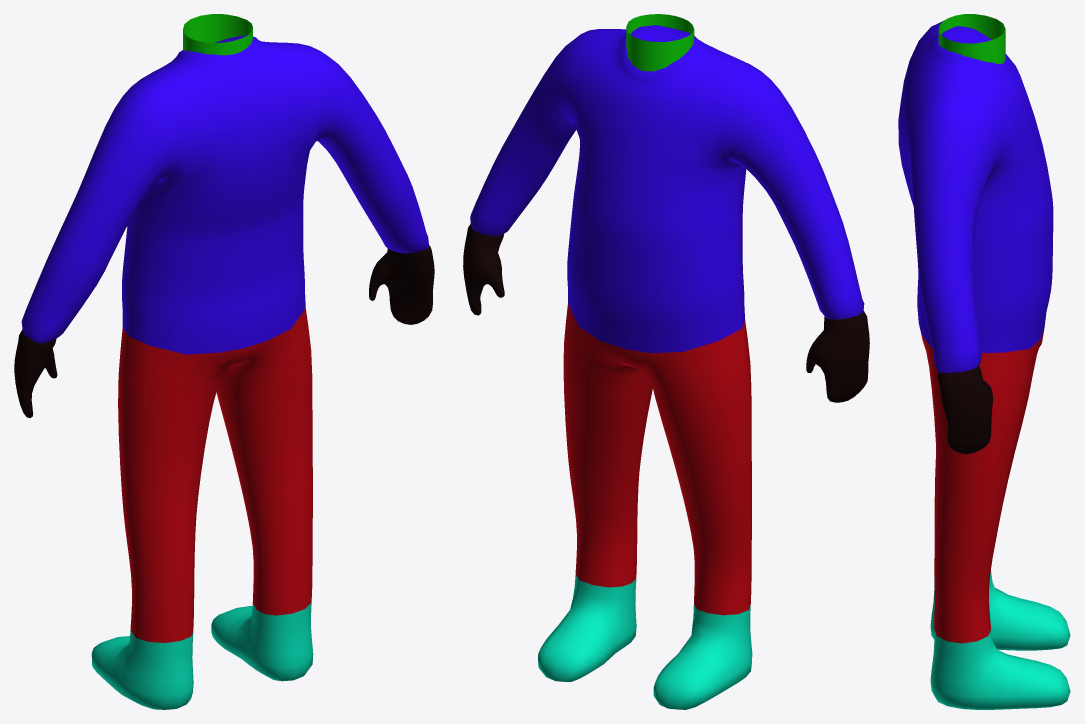
The model's file is SKM_Driver_High.fbx.
3 renders of one model, left to right at view 1: azimuth 30°, elevation 25°; view 2: azimuth 150°, elevation 25°; view 3: azimuth 270°, elevation 25°, orthographic. The views are drawn at different scales.
Visible parts, largest first — view 1: Astronaut.001; view 2: Astronaut.001; view 3: Astronaut.001.
Boxes of the visible parts, x1,y1,x2,y2 form: Astronaut.001: [14, 14, 434, 709]; Astronaut.001: [463, 14, 869, 709]; Astronaut.001: [898, 14, 1070, 709].
Size of the model in its own units: 122 by 186 by 44.98.
